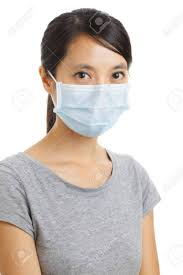with-mask: (38, 19, 134, 143)
